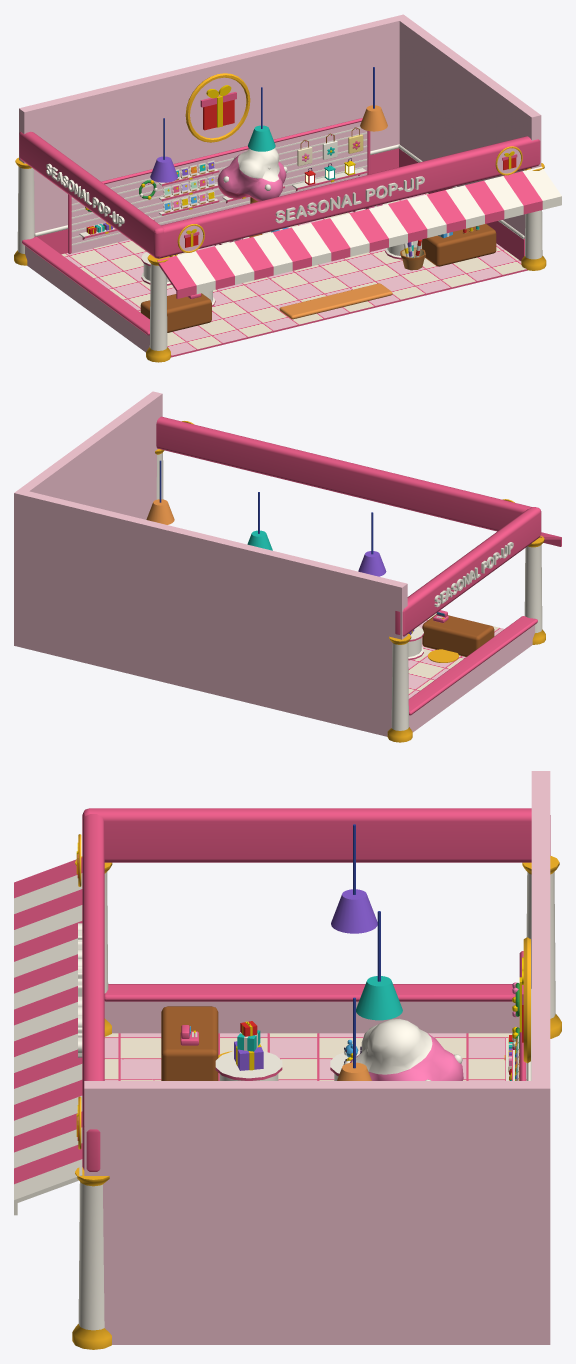
Rendered from seasonal_pop_up.glb.
3 renders of one model, top to bottom at view 1: azimuth 30°, elevation 25°; view 2: azimuth 150°, elevation 25°; view 3: azimuth 270°, elevation 25°, orthographic. The views are drawn at different scales.
Parts seen in each view (by area): view 1: Shop_Seasonal_Back_Wall, Shop_Seasonal_Front_Canopy, Shop_Seasonal_Shell, Shop_Seasonal_Side_Wall, M_Seasonal_SlatWall, M_Seasonal_Hero, Seasonal_Wrapping_Table, Refined_Seasonal_Entry_Mat, Seasonal_Checkout, M_Seasonal_Wrap, M_Seasonal_Pedestals, Seasonal_Pendant_Shade_2 (+2 smaller); view 2: Shop_Seasonal_Back_Wall, Shop_Seasonal_Front_Canopy, Shop_Seasonal_Shell, Shop_Seasonal_Side_Wall, Seasonal_Checkout, Seasonal_Pendant_Shade_0, Seasonal_Pendant_Shade_2; view 3: Shop_Seasonal_Side_Wall, Shop_Seasonal_Front_Canopy, Shop_Seasonal_Shell, Shop_Seasonal_Back_Wall, M_Seasonal_Hero, Seasonal_Checkout, M_Seasonal_Pedestals, Seasonal_Pendant_Shade_1, Seasonal_Pendant_Shade_2, M_Seasonal_SlatWall.
Part boxes in pixels (left/top/right/bottom): Shop_Seasonal_Back_Wall: left=19, top=14, right=408, bottom=254; Shop_Seasonal_Front_Canopy: left=19, top=131, right=561, bottom=298; Shop_Seasonal_Shell: left=14, top=157, right=546, bottom=362; Shop_Seasonal_Side_Wall: left=398, top=18, right=541, bottom=260; M_Seasonal_SlatWall: left=68, top=118, right=370, bottom=253; M_Seasonal_Hero: left=215, top=148, right=290, bottom=245; Seasonal_Wrapping_Table: left=422, top=224, right=496, bottom=266; Refined_Seasonal_Entry_Mat: left=279, top=283, right=392, bottom=319; Seasonal_Checkout: left=140, top=293, right=211, bottom=332; M_Seasonal_Wrap: left=188, top=225, right=479, bottom=299; M_Seasonal_Pedestals: left=141, top=202, right=421, bottom=306; Seasonal_Pendant_Shade_2: left=150, top=156, right=177, bottom=182; Shop_Seasonal_Back_Wall: left=14, top=489, right=407, bottom=736; Shop_Seasonal_Front_Canopy: left=156, top=416, right=561, bottom=636; Shop_Seasonal_Shell: left=155, top=449, right=545, bottom=742; Shop_Seasonal_Side_Wall: left=20, top=391, right=162, bottom=519; Seasonal_Checkout: left=422, top=614, right=494, bottom=656; Seasonal_Pendant_Shade_0: left=146, top=499, right=174, bottom=524; Seasonal_Pendant_Shade_2: left=358, top=551, right=386, bottom=576; Shop_Seasonal_Side_Wall: left=84, top=1081, right=531, bottom=1344; Shop_Seasonal_Front_Canopy: left=14, top=808, right=550, bottom=1215; Shop_Seasonal_Shell: left=72, top=856, right=561, bottom=1349; Shop_Seasonal_Back_Wall: left=519, top=771, right=550, bottom=1344; M_Seasonal_Hero: left=343, top=1018, right=463, bottom=1080; Seasonal_Checkout: left=161, top=1006, right=218, bottom=1080; M_Seasonal_Pedestals: left=215, top=1021, right=361, bottom=1080; Seasonal_Pendant_Shade_1: left=356, top=976, right=402, bottom=1020; Seasonal_Pendant_Shade_2: left=331, top=889, right=377, bottom=933; M_Seasonal_SlatWall: left=504, top=951, right=525, bottom=1080.
Bounding box in the file's own units: 12.48 × 4.89 × 8.82.
29 materials, 1 textured.
